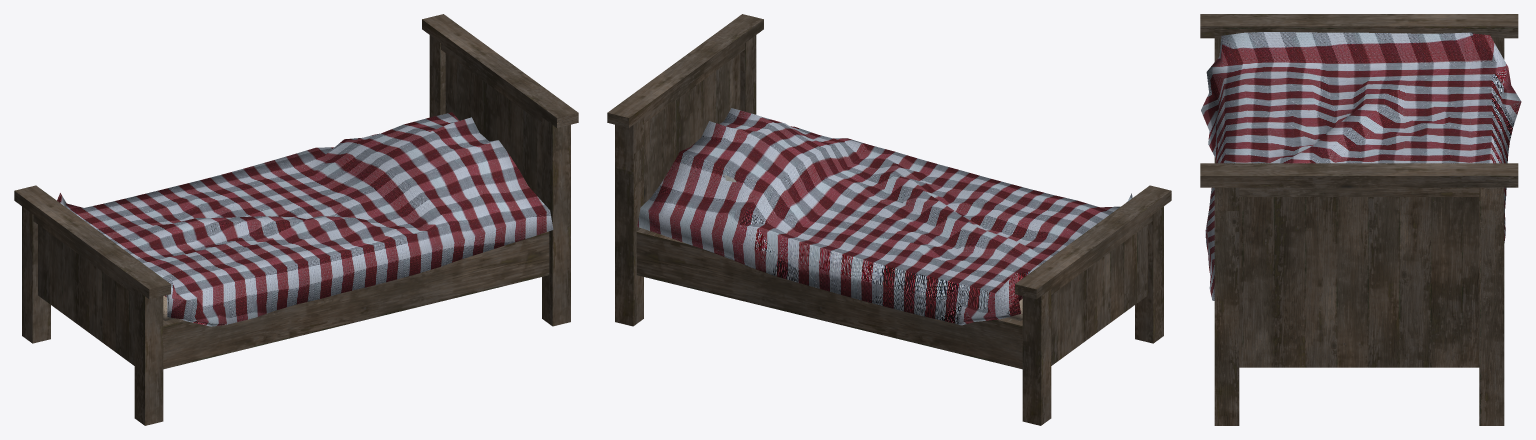
The model's file is simplebed.fbx.
3 views of the same model, side by side, from view 1: azimuth 30°, elevation 25°; view 2: azimuth 150°, elevation 25°; view 3: azimuth 270°, elevation 25° (orthographic). The views are drawn at different scales.
Parts seen in each view (by area): view 1: Bed; view 2: Bed; view 3: Bed.
Part boxes in pixels (x1,y1,x2,y2): Bed: [14, 14, 578, 425]; Bed: [607, 14, 1171, 425]; Bed: [1200, 14, 1521, 425].
Size of the model in its own units: 221 by 105 by 122.
4 materials, 4 textured.
